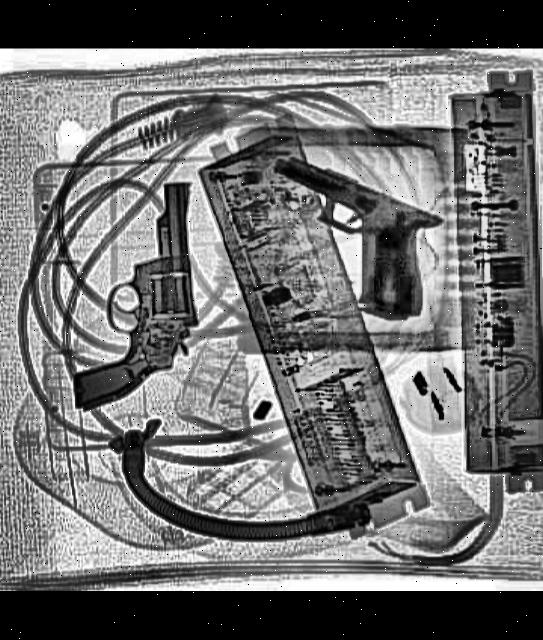Gun: (241, 152, 462, 323), (66, 179, 198, 408)
